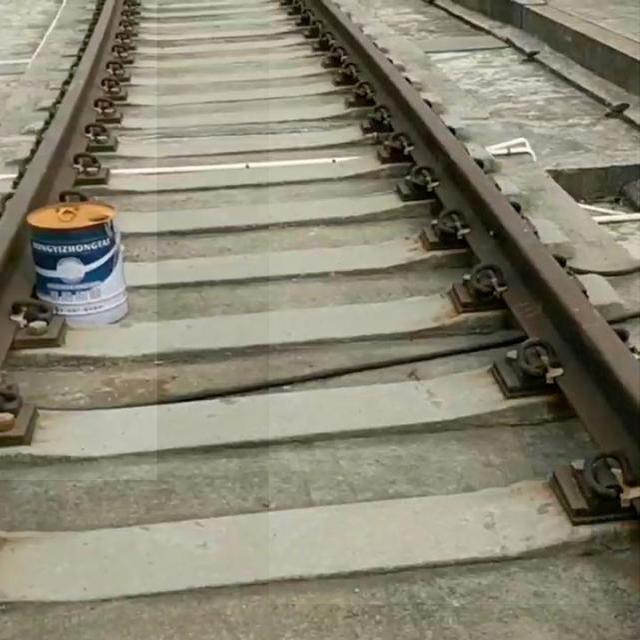rail: (270, 1, 640, 605), (1, 1, 158, 481)
